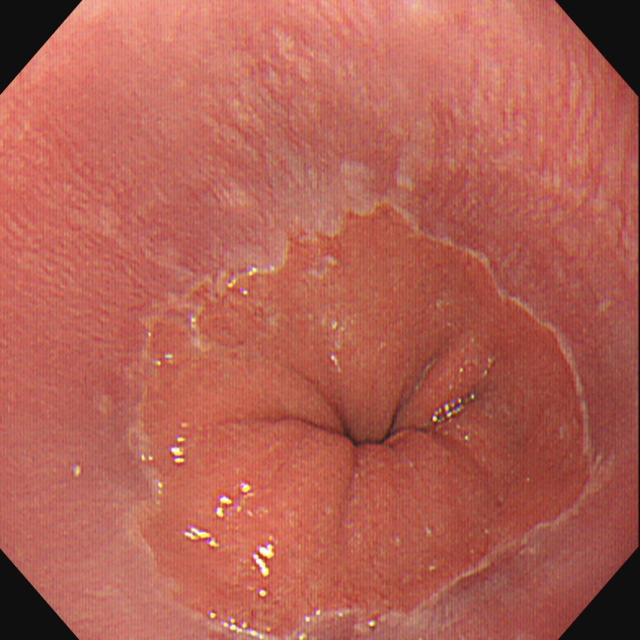I: (107, 176, 613, 640)
